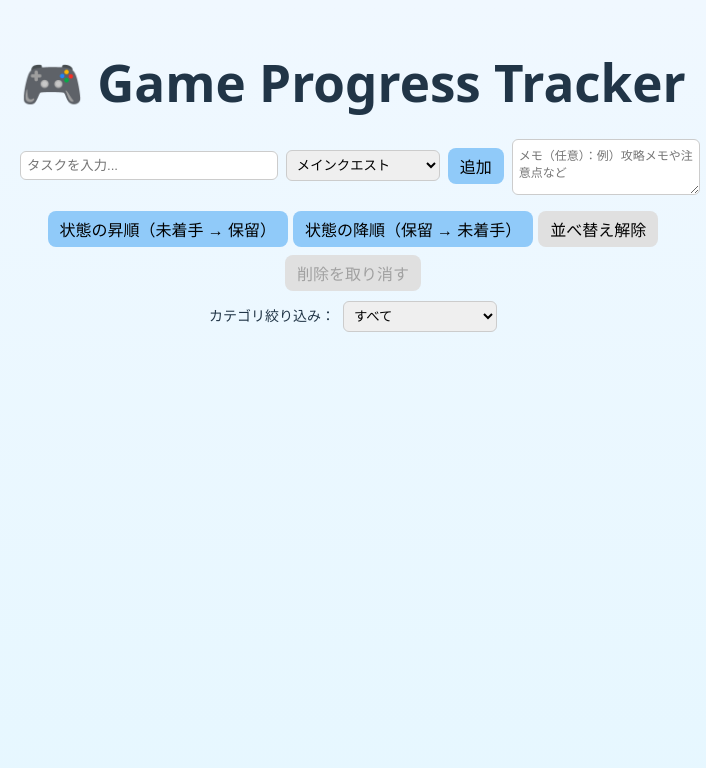
Test: UI: タスク編集機能 › CASE2: 編集 → キャンセル では変更が反映されない
Type "キャンセルテスト" into the field with placeholder "タスクを入力...".
click(149, 166); type("キャンセルテスト")  # box [20,151,278,180]
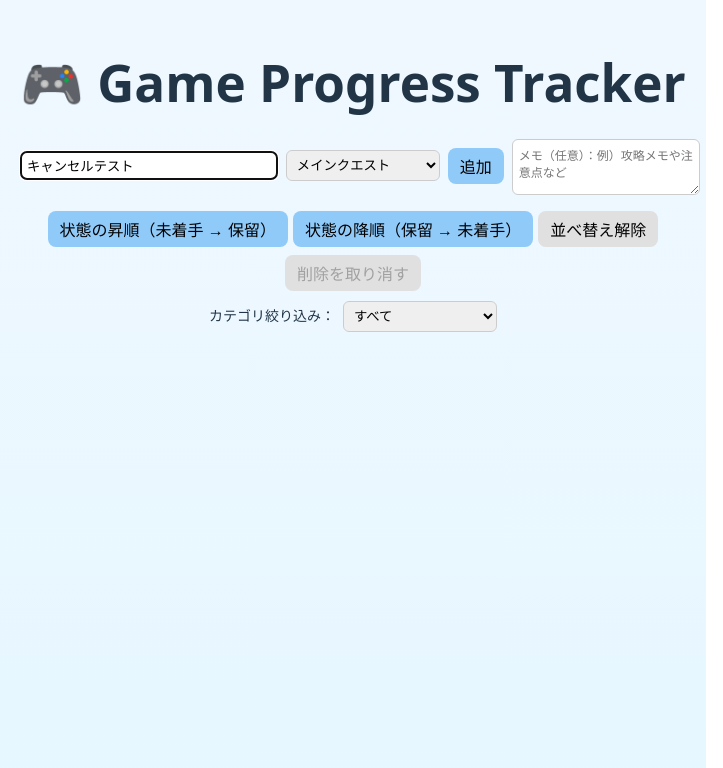
Click the button "追加".
click(476, 166)  # box [448,148,504,184]
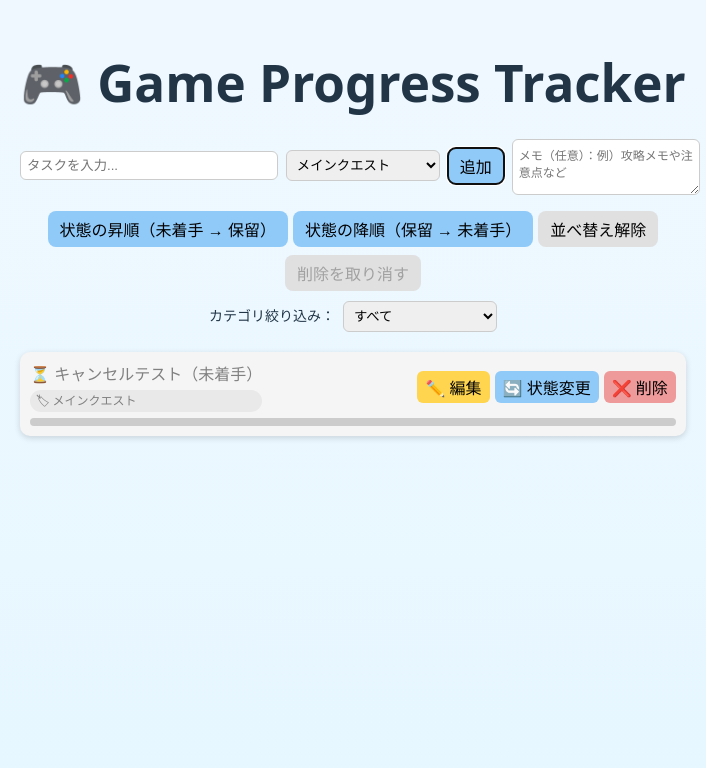
 2. 編集開始
Click the button "✏️ 編集".
click(453, 387)  # box [417,371,490,403]
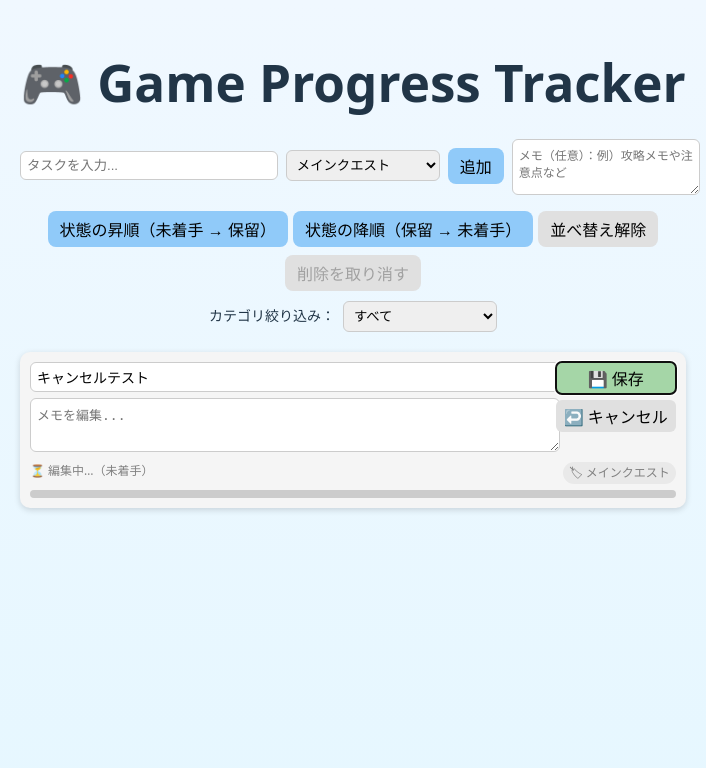
編集用 input に文字を入力
Replace the text in the field showing "キャンセルテスト" with "書き換えたけど保存しない" at point(295, 377), box [30,362,560,392]
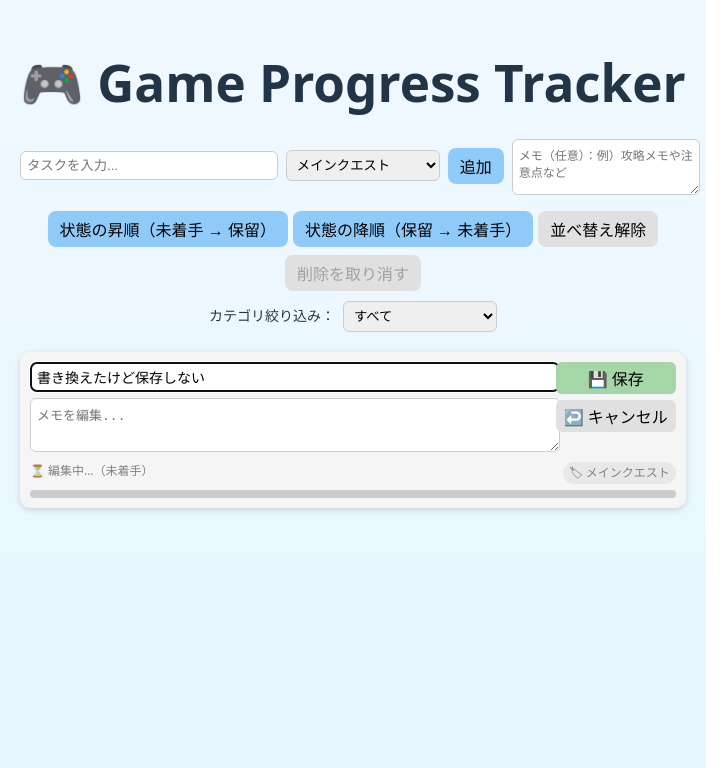
4. キャンセル
Click the button "↩️ キャンセル".
click(616, 416)  # box [556,400,676,432]
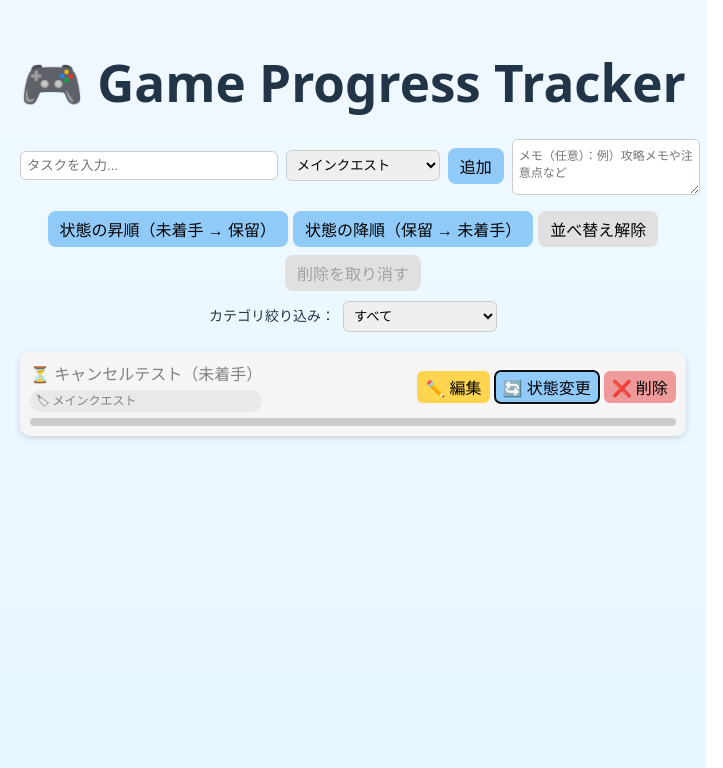
Expected: the text "書き換えたけど保存しない" is not shown
Expected: the text "⏳ キャンセルテスト（未着手）" is shown, [30,362,262,386]
